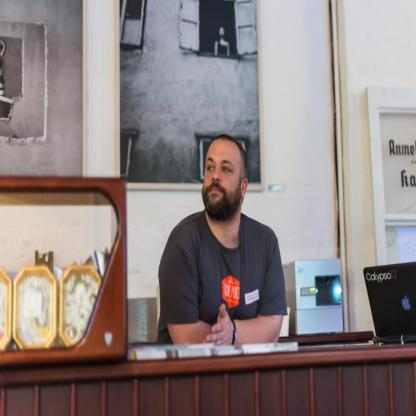board: (362, 264, 416, 342)
